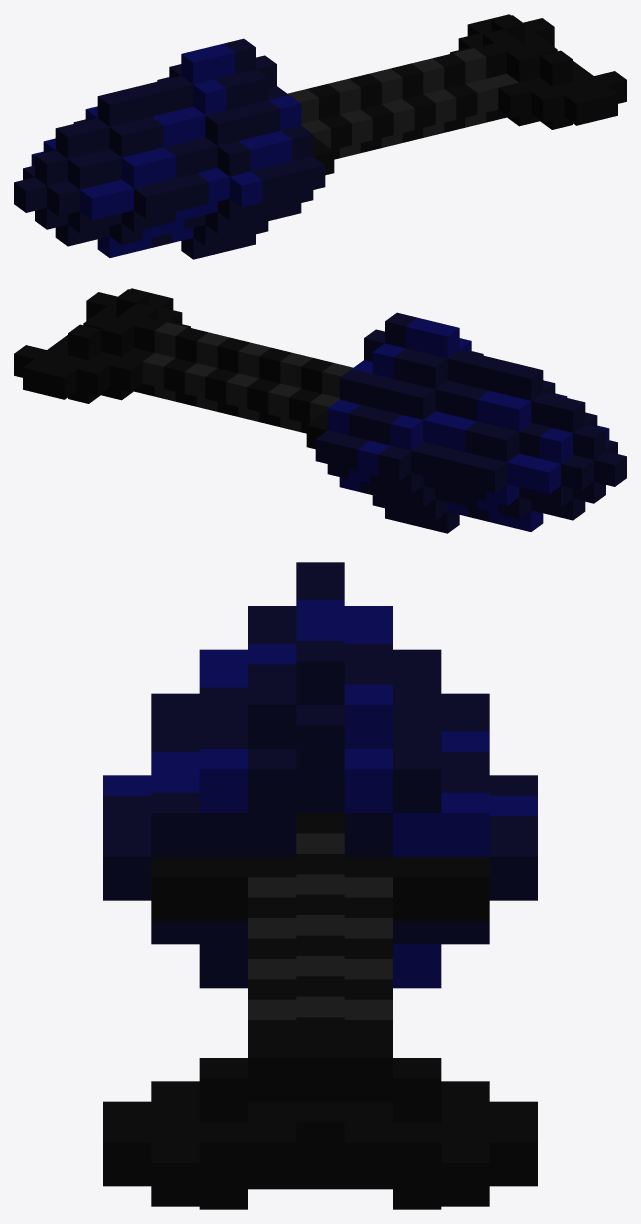
File: EvilArrowTank.obj
The picture shows the model from 3 angles, top to bottom: view 1: azimuth 30°, elevation 25°; view 2: azimuth 150°, elevation 25°; view 3: azimuth 270°, elevation 25°; orthographic projection. The views are drawn at different scales.
Size of the model in its own units: 2.7 by 0.9 by 0.9.
Materials: 1 (1 with a texture image).
